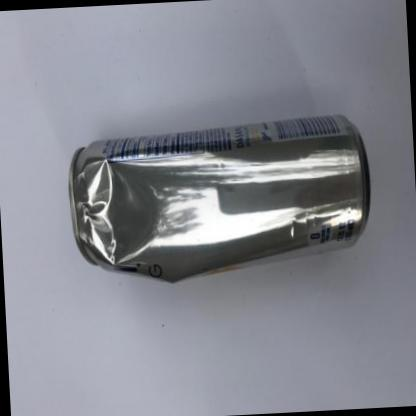Metal: (69, 115, 370, 282)
